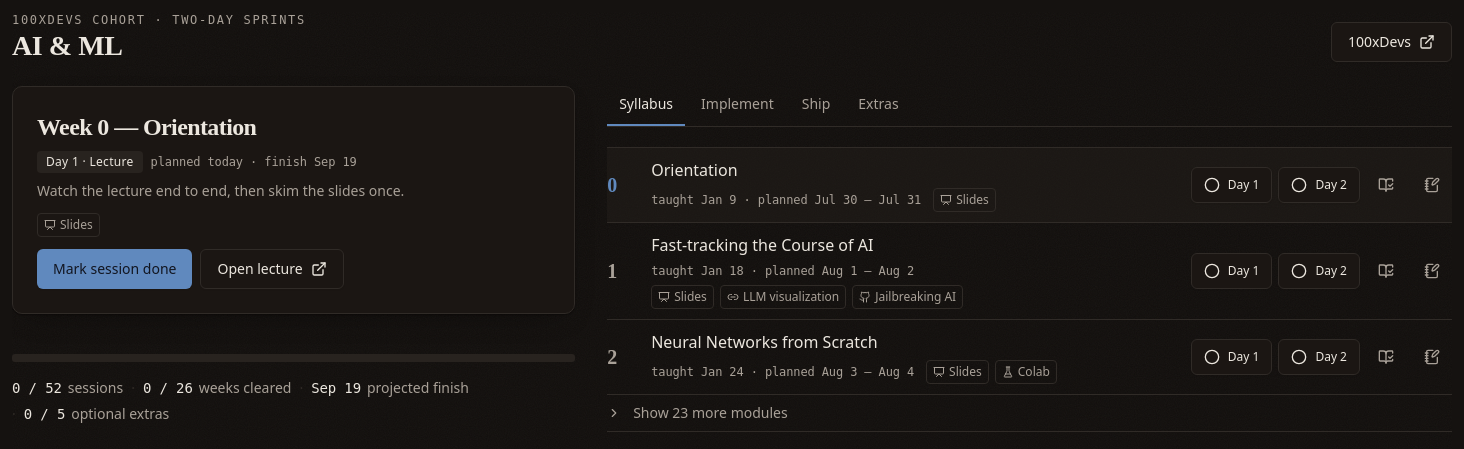
AimlCoursePage › marking the up-next session done awards XP and advances to Day 2 · Practice
Click the button "Mark session done".
click(115, 269)  # box [37,249,192,289]
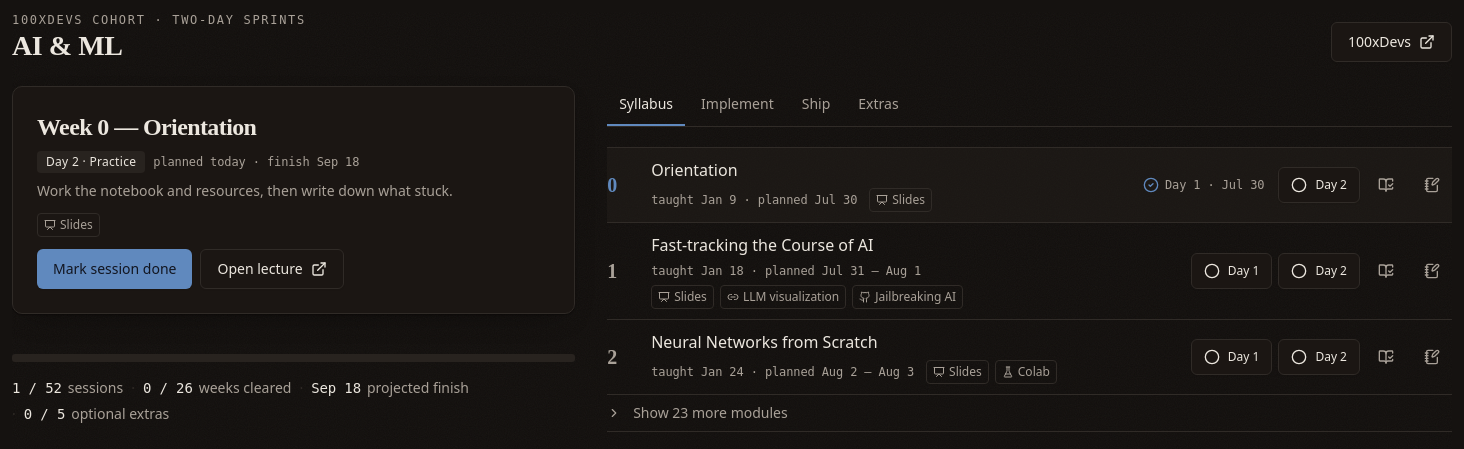
Now the text "Day 2 · Practice" is shown, box [37,151,145,173]
